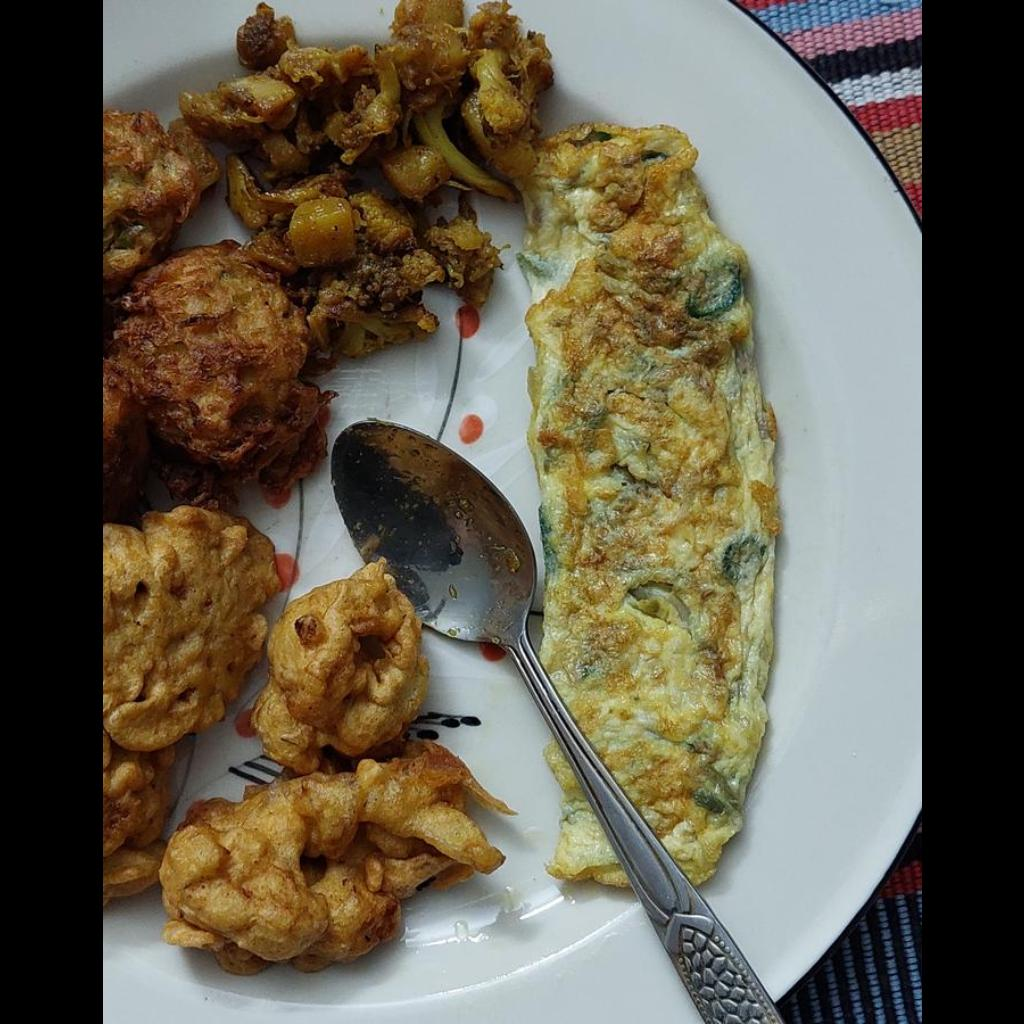chop-alu: (102, 498, 512, 979)
egg-poached: (519, 120, 784, 884)
piyaju: (102, 116, 326, 511)
vaji: (183, 0, 557, 366)
